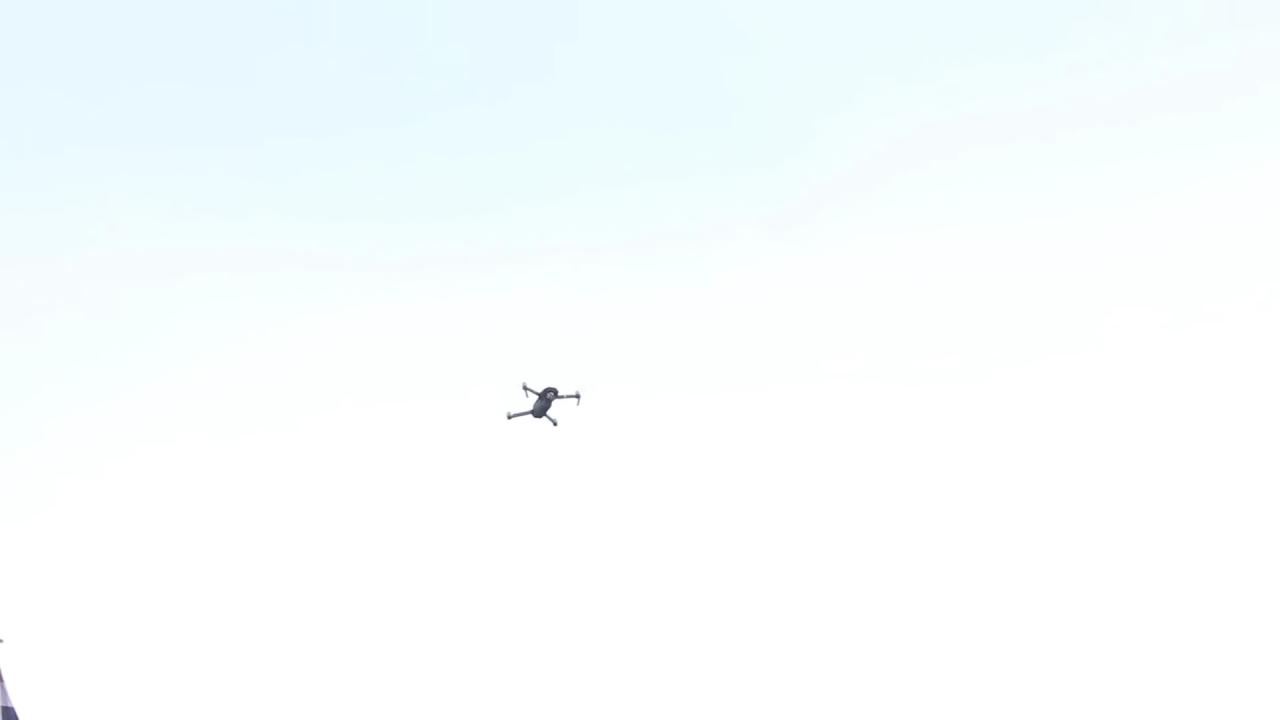Drone: (497, 373, 586, 437)
